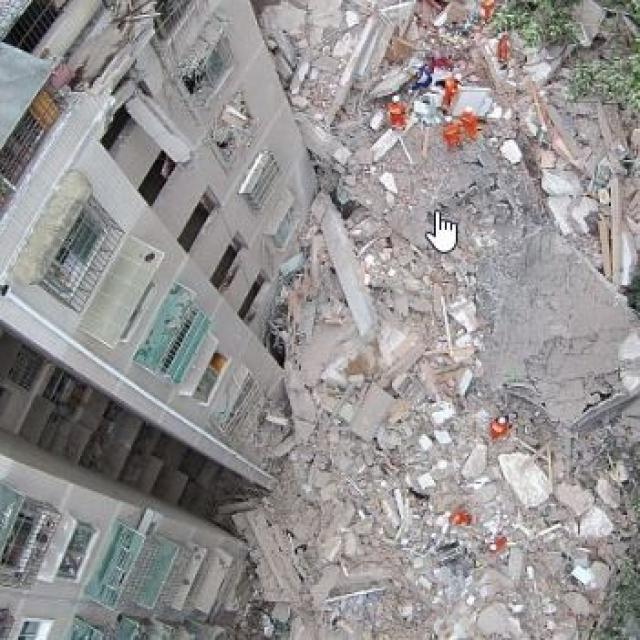collapsed_building: (232, 4, 532, 542)
